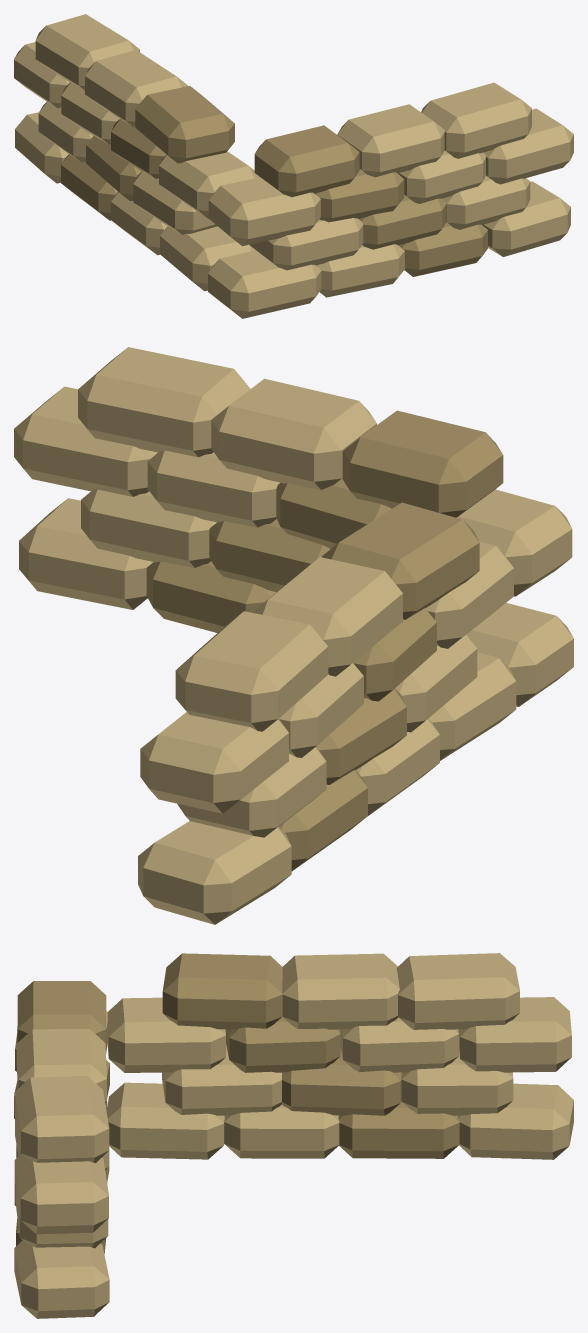
File: sandbag_corner.glb
3 views of the same model, one above another, from view 1: azimuth 30°, elevation 25°; view 2: azimuth 150°, elevation 25°; view 3: azimuth 270°, elevation 25° (orthographic). The views are drawn at different scales.
Parts seen in each view (by area): view 1: LOD0; view 2: LOD0; view 3: LOD0.
Boxes of the visible parts, <box> form: LOD0: <box>14,14,573,318</box>; LOD0: <box>14,347,573,924</box>; LOD0: <box>14,953,573,1318</box>.
Size of what is drawn, in the model's own units: 2.25 by 0.9399 by 2.65.
Materials: 1 (1 with a texture image).
